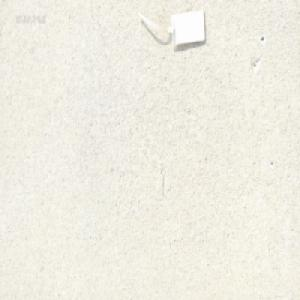LuggageTag: (134, 3, 207, 51)
